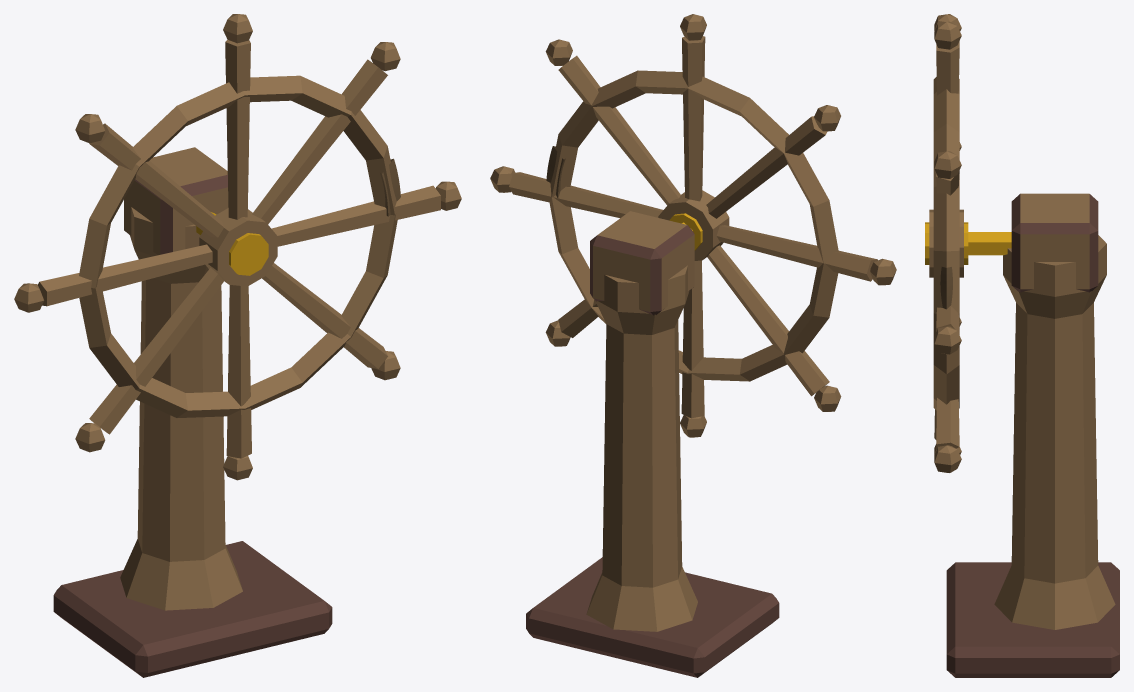
Rendered from steuerrad.glb.
3 views of the same model, side by side, from view 1: azimuth 30°, elevation 25°; view 2: azimuth 150°, elevation 25°; view 3: azimuth 270°, elevation 25° (orthographic). The views are drawn at different scales.
Parts seen in each view (by area): view 1: rad-m, steuerrad-m; view 2: steuerrad-m, rad-m; view 3: steuerrad-m, rad-m.
Boxes of the visible parts, x1,y1,x2,y2 form: rad-m: (14,14,461,480); steuerrad-m: (53,147,332,677); steuerrad-m: (526,211,779,677); rad-m: (490,14,896,437); steuerrad-m: (946,193,1119,677); rad-m: (925,14,968,472).
Size of the model in its own units: 1.13 by 1.56 by 0.45.
